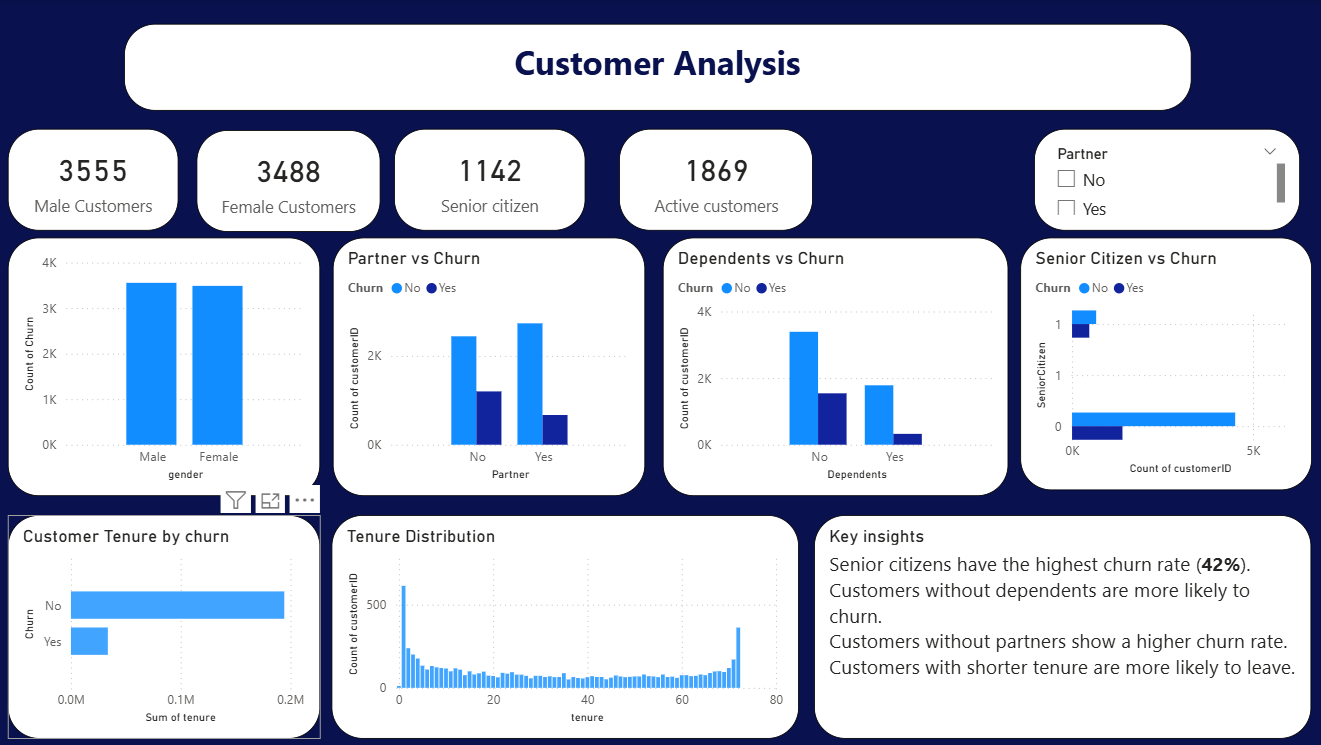

The page's visual inventory and layout, read from the dashboard file:
{"tool":"powerbi","page":{"name":"Customer Analysis","canvas":[1280,720],"ordinal":1},"visuals":[{"type":"clusteredColumnChart","fields":{"Category":["customer_churn.gender"],"Y":["CountNonNull(customer_churn.Churn)"]},"box":[8.7,229.4,301.5,249.6],"z":0},{"type":"clusteredBarChart","title":"Senior Citizen vs Churn","fields":{"Y":["CountNonNull(customer_churn.customerID)"],"Series":["customer_churn.Churn"],"Category":["customer_churn.SeniorCitizen"]},"box":[985.4,229.4,281.3,243.8],"z":1000},{"type":"clusteredColumnChart","title":"Partner vs Churn","fields":{"Category":["customer_churn.Partner"],"Series":["customer_churn.Churn"],"Y":["CountNonNull(customer_churn.customerID)"]},"box":[321.7,229.4,301.5,249.6],"z":2000},{"type":"clusteredColumnChart","title":"Dependents vs Churn","fields":{"Y":["CountNonNull(customer_churn.customerID)"],"Category":["customer_churn.Dependents"],"Series":["customer_churn.Churn"]},"box":[640.6,229.4,333.3,249.6],"z":3000},{"type":"columnChart","title":"Tenure Distribution","fields":{"Category":["customer_churn.tenure"],"Y":["CountNonNull(customer_churn.customerID)"]},"box":[321.3,496.7,450.8,216.4],"z":4000},{"type":"barChart","title":"Customer Tenure by churn","fields":{"Category":["customer_churn.Churn"],"Y":["Sum(customer_churn.tenure)"]},"box":[8.2,496.7,301.6,216.4],"z":5000},{"type":"card","fields":{"Values":["customer_churn.Male Customers"]},"box":[8.7,124.1,164.5,98.1],"z":6000},{"type":"card","fields":{"Values":["customer_churn.Female Customers"]},"box":[190.4,125.5,177.5,98.1],"z":7000},{"type":"card","fields":{"Values":["customer_churn.Senior citizen"]},"box":[380.9,124.1,184.7,98.1],"z":8000},{"type":"card","fields":{"Values":["customer_churn.Active customers"]},"box":[598.7,124.1,187.6,98.1],"z":9000},{"type":"slicer","fields":{"Values":["customer_churn.Partner"]},"box":[998.4,124.1,256.8,98.1],"z":10000},{"type":"textbox","title":"Key insights","box":[786.9,496.7,480.3,216.4],"z":11000},{"type":"textbox","box":[121.2,23.1,1030.1,83.7],"z":11001}]}

Visuals, with their boxes in screenshot pixels (x1, y1, x2, y2), scaled from the page's 1280x720 canvas onto the 1321x745 screenshot:
clusteredColumnChart - customer_churn.gender x CountNonNull(customer_churn.Churn): bbox(9, 237, 320, 496)
"Senior Citizen vs Churn" clusteredBarChart: bbox(1017, 237, 1307, 490)
"Partner vs Churn" clusteredColumnChart: bbox(332, 237, 643, 496)
"Dependents vs Churn" clusteredColumnChart: bbox(661, 237, 1005, 496)
"Tenure Distribution" columnChart: bbox(332, 514, 797, 738)
"Customer Tenure by churn" barChart: bbox(8, 514, 320, 738)
card - customer_churn.Male Customers: bbox(9, 128, 179, 230)
card - customer_churn.Female Customers: bbox(196, 130, 380, 231)
card - customer_churn.Senior citizen: bbox(393, 128, 584, 230)
card - customer_churn.Active customers: bbox(618, 128, 811, 230)
slicer - customer_churn.Partner: bbox(1030, 128, 1295, 230)
"Key insights" textbox: bbox(812, 514, 1308, 738)
textbox: bbox(125, 24, 1188, 111)
